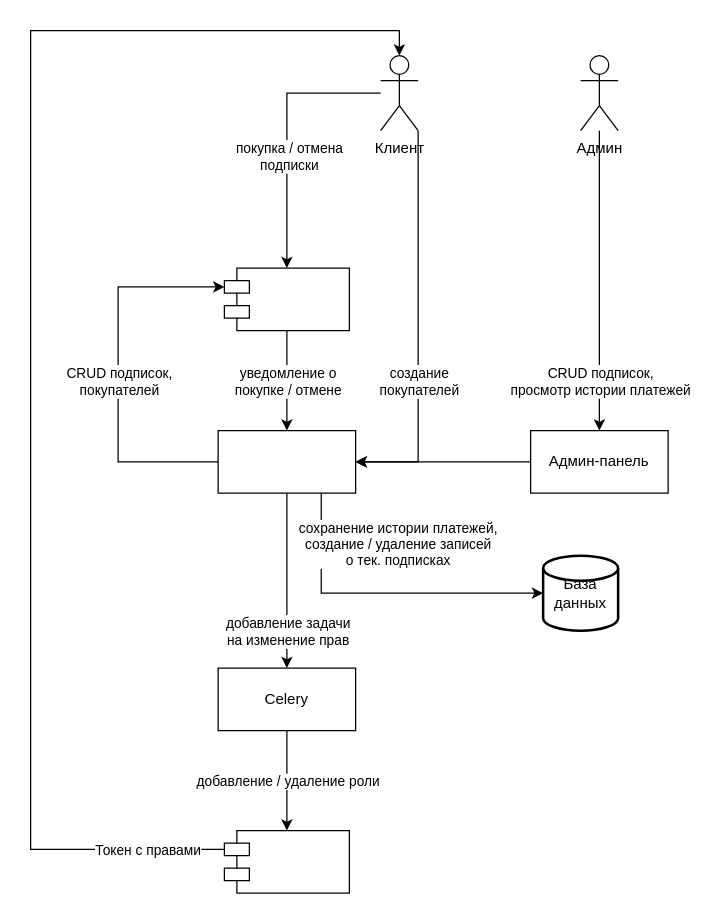
Some shapes in this 711 by 915 pixel diagram are drawn without their labels. The centre of each missing label's shape, as x and y in pixels:
"Backend" belongs at (x=286, y=461).
"Платежный сервис" belongs at (x=286, y=299).
"Сервис авторизации" belongs at (x=286, y=861).
